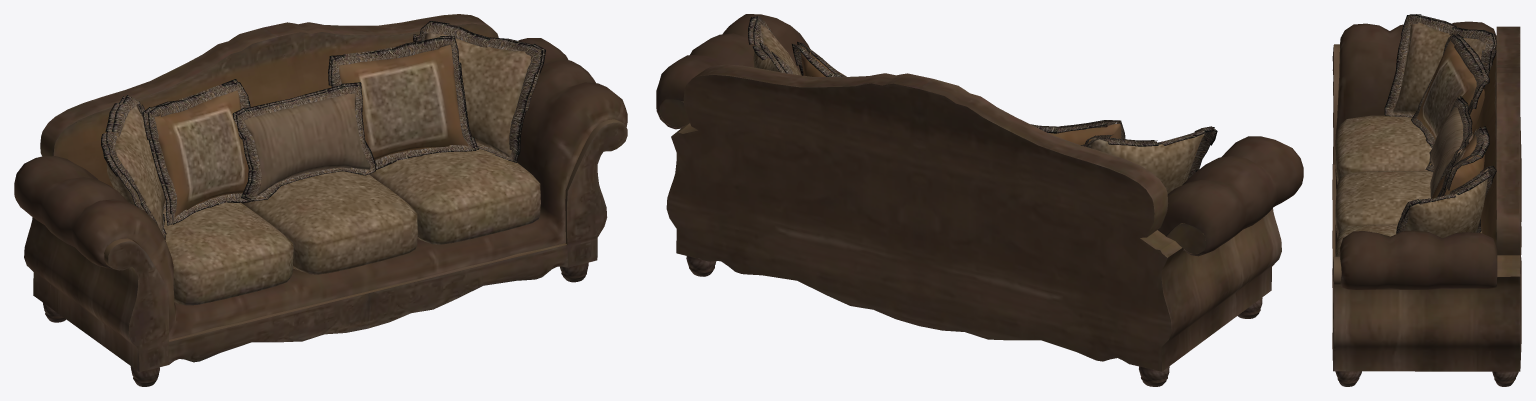
Rendered from sofa-03.glb.
The picture shows the model from 3 angles, left to right: view 1: azimuth 30°, elevation 25°; view 2: azimuth 150°, elevation 25°; view 3: azimuth 270°, elevation 25°; orthographic projection. The views are drawn at different scales.
Visible parts, largest first — view 1: sofa_03; view 2: sofa_03; view 3: sofa_03.
Boxes of the visible parts, x1=… form: sofa_03: x1=14, y1=14, x2=627, y2=386; sofa_03: x1=656, y1=14, x2=1303, y2=386; sofa_03: x1=1332, y1=14, x2=1521, y2=386.
Size of the model in its own units: 2.73 by 1.12 by 0.925.
Materials: 2 (2 with a texture image).
